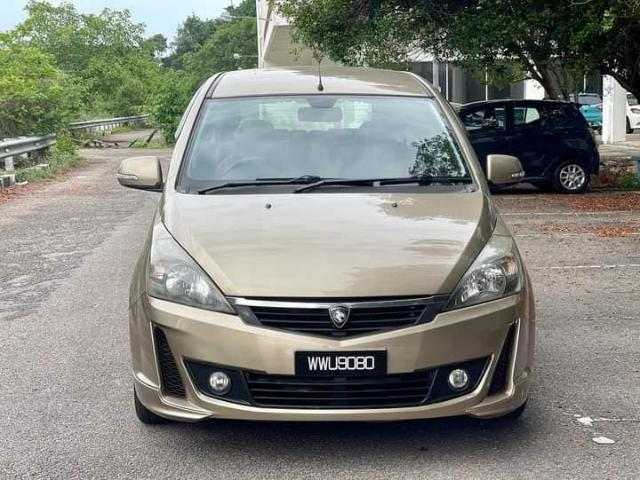License_Plate: (301, 353, 386, 378)
car: (111, 68, 537, 423)
